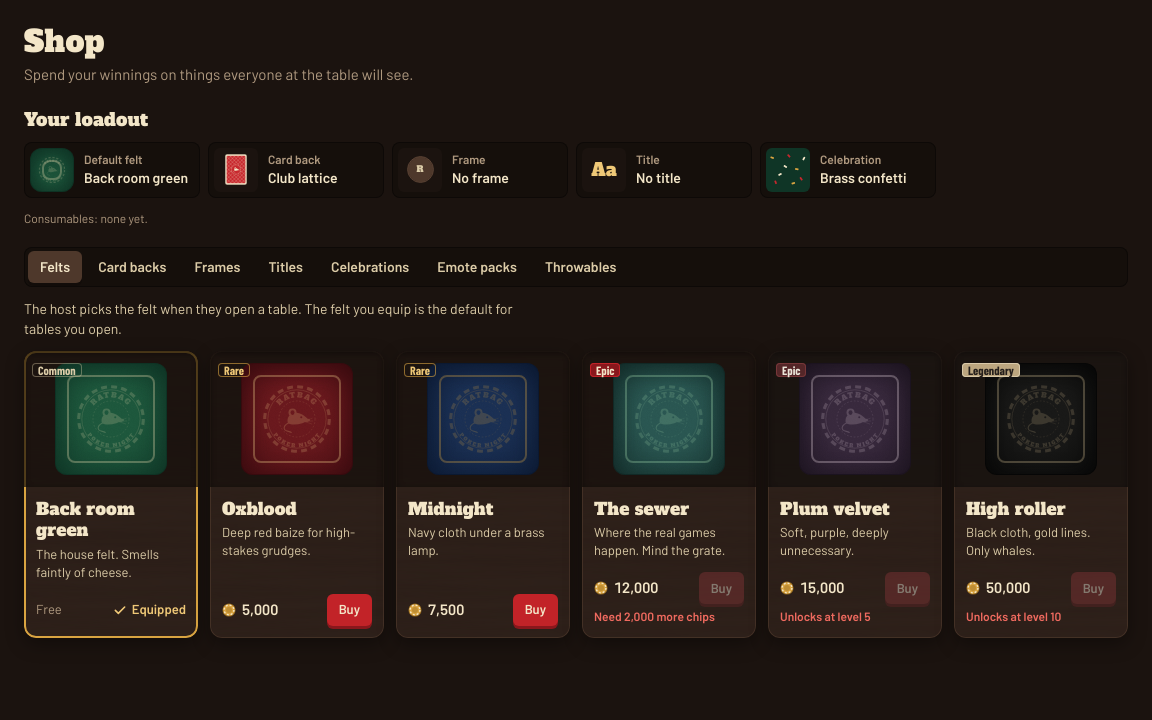
ShopScreen › buys after confirming, and a retry after a failure reuses the same nonce
Click the button "Buy" below "Deep red baize for high-stakes grudges." at (349, 610), box [327,594,372,626]
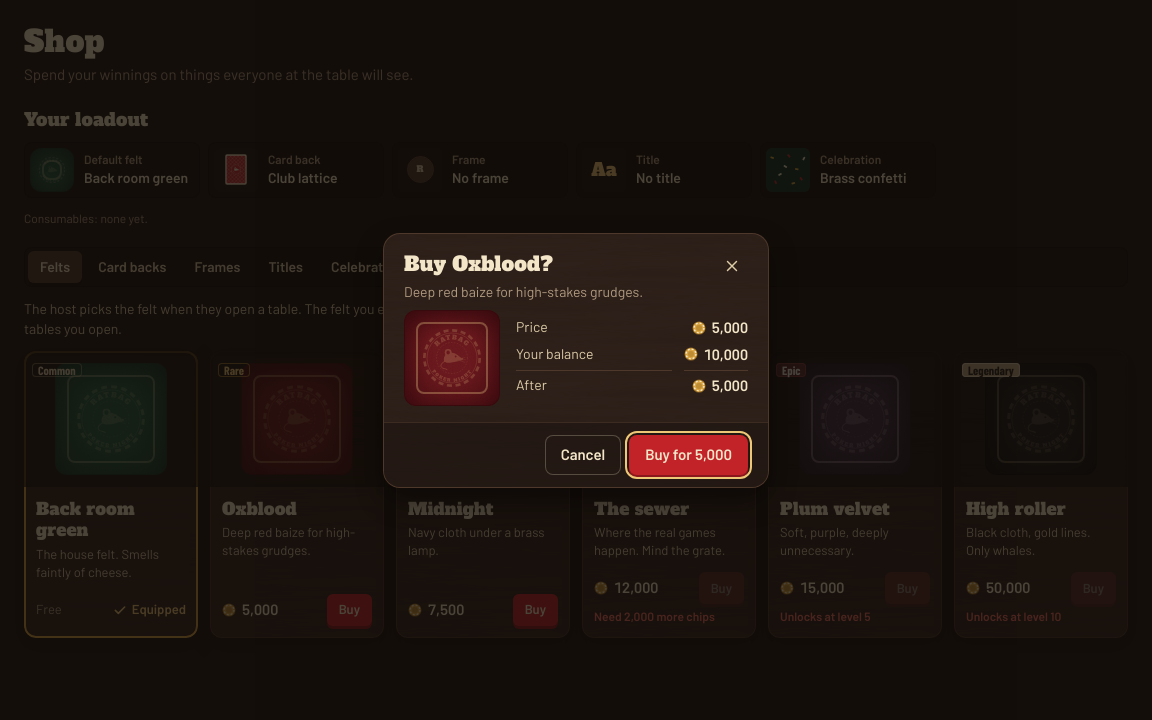
Now the text "Your balance" is shown, box [516,345,593,362]
Now the dialog "Buy Oxblood?" shows "5,000", box [712,318,748,336]
Click the button "Buy for 5,000" at (689, 454), box [629,434,748,474]
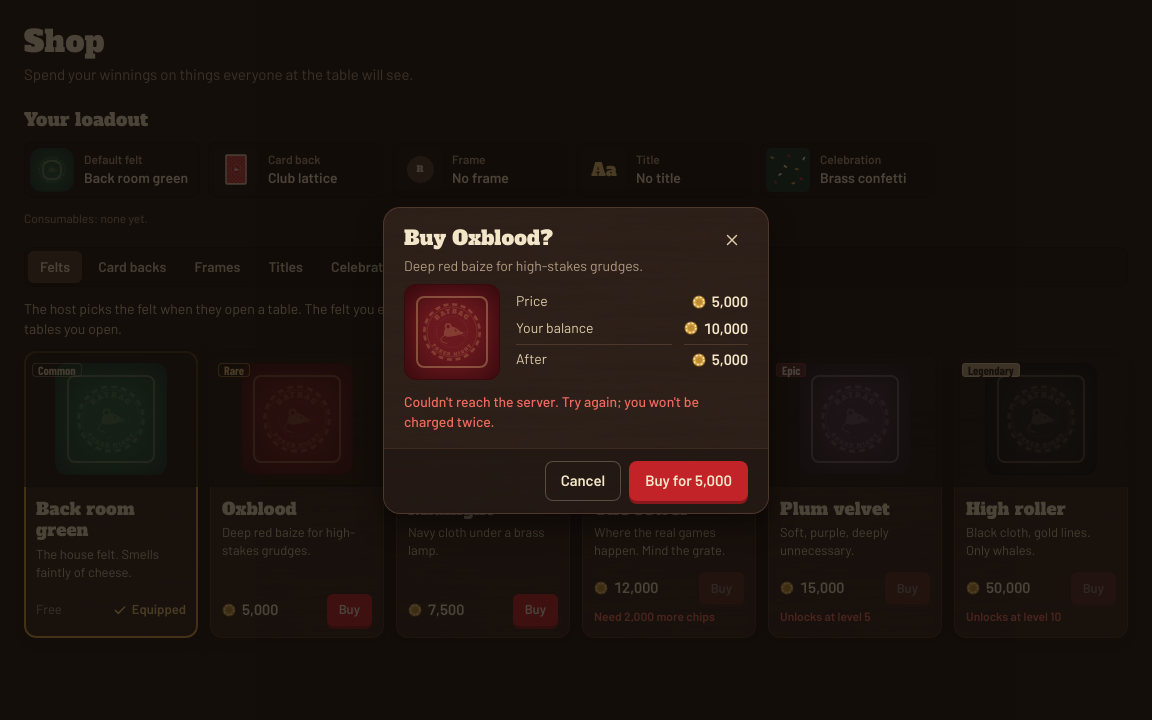
Now the message reads "Couldn't reach the server. Try again; you won't be charged twice.", box [404,392,699,430]
Click the button "Buy for 5,000" at (689, 480), box [629,460,748,500]
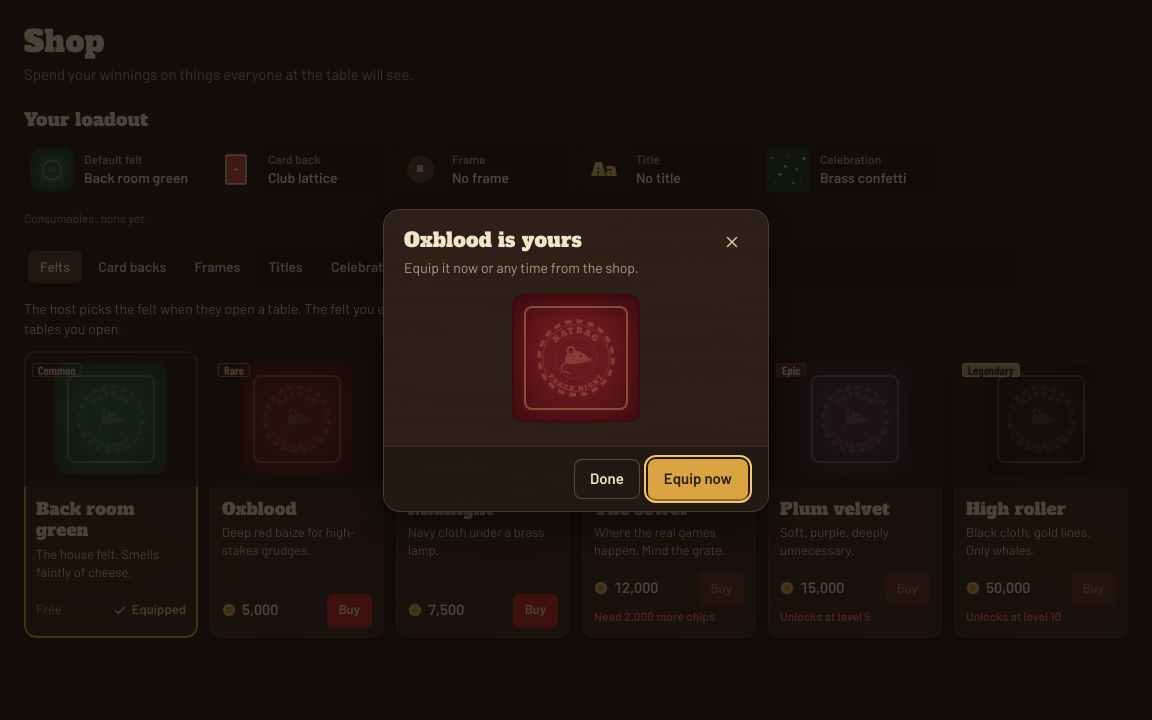
Now the dialog "Oxblood is yours" is shown, box [384,210,768,510]
